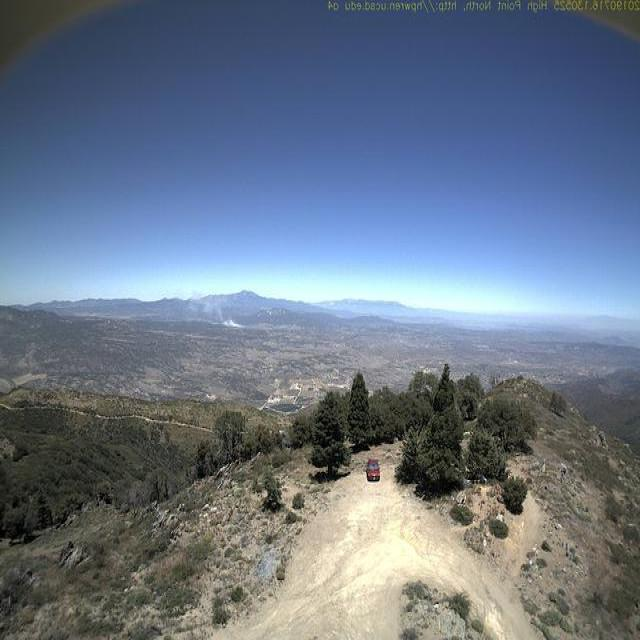Smoke: (185, 284, 255, 334)
